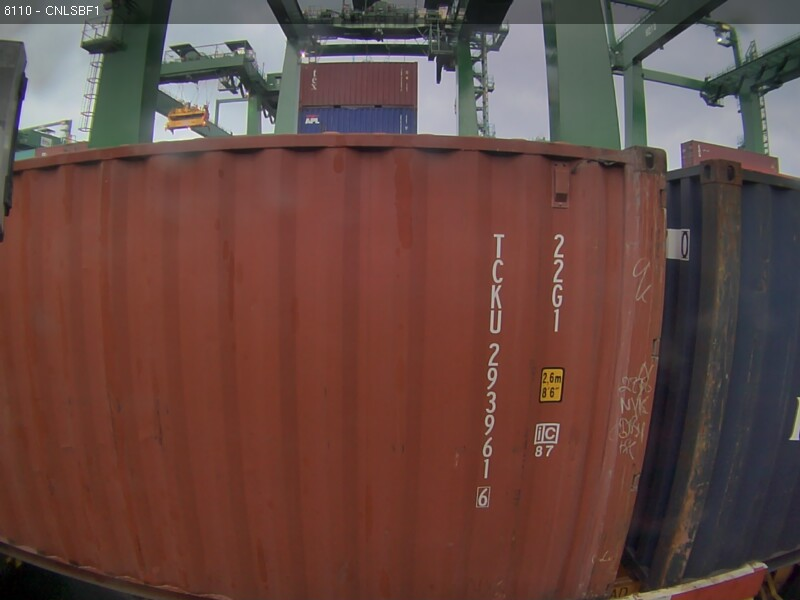container_no_door: (256, 135, 675, 536)
